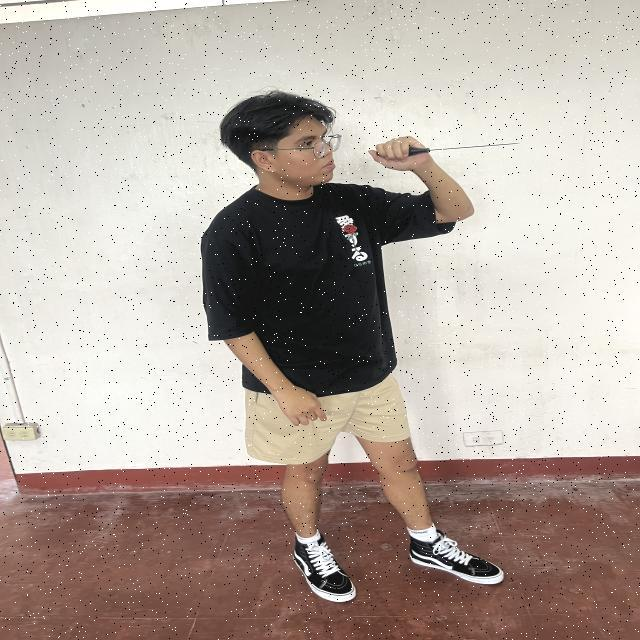knife: (372, 136, 520, 161)
non-violence: (200, 88, 522, 604)
